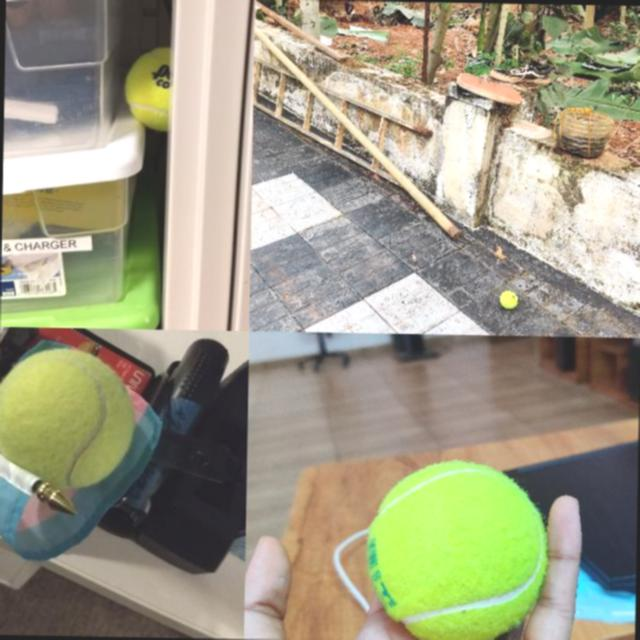tennis-ball: (365, 459, 547, 640), (0, 345, 137, 449), (124, 46, 168, 132), (498, 290, 518, 308)
